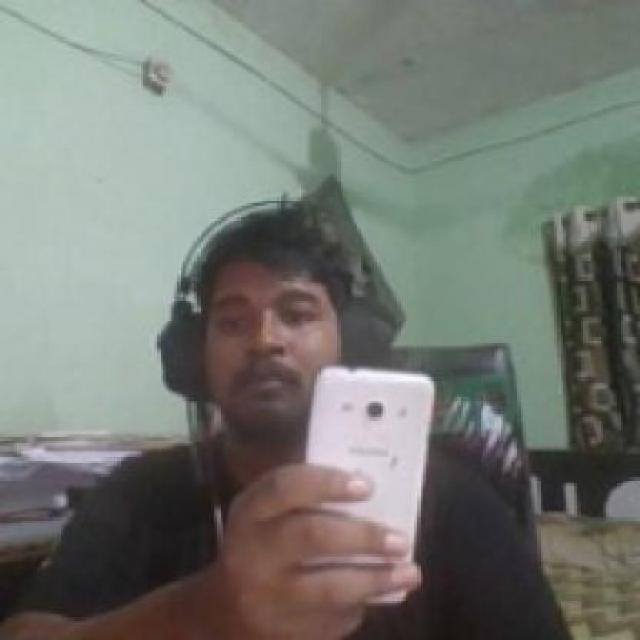Phone: (302, 365, 438, 609)
